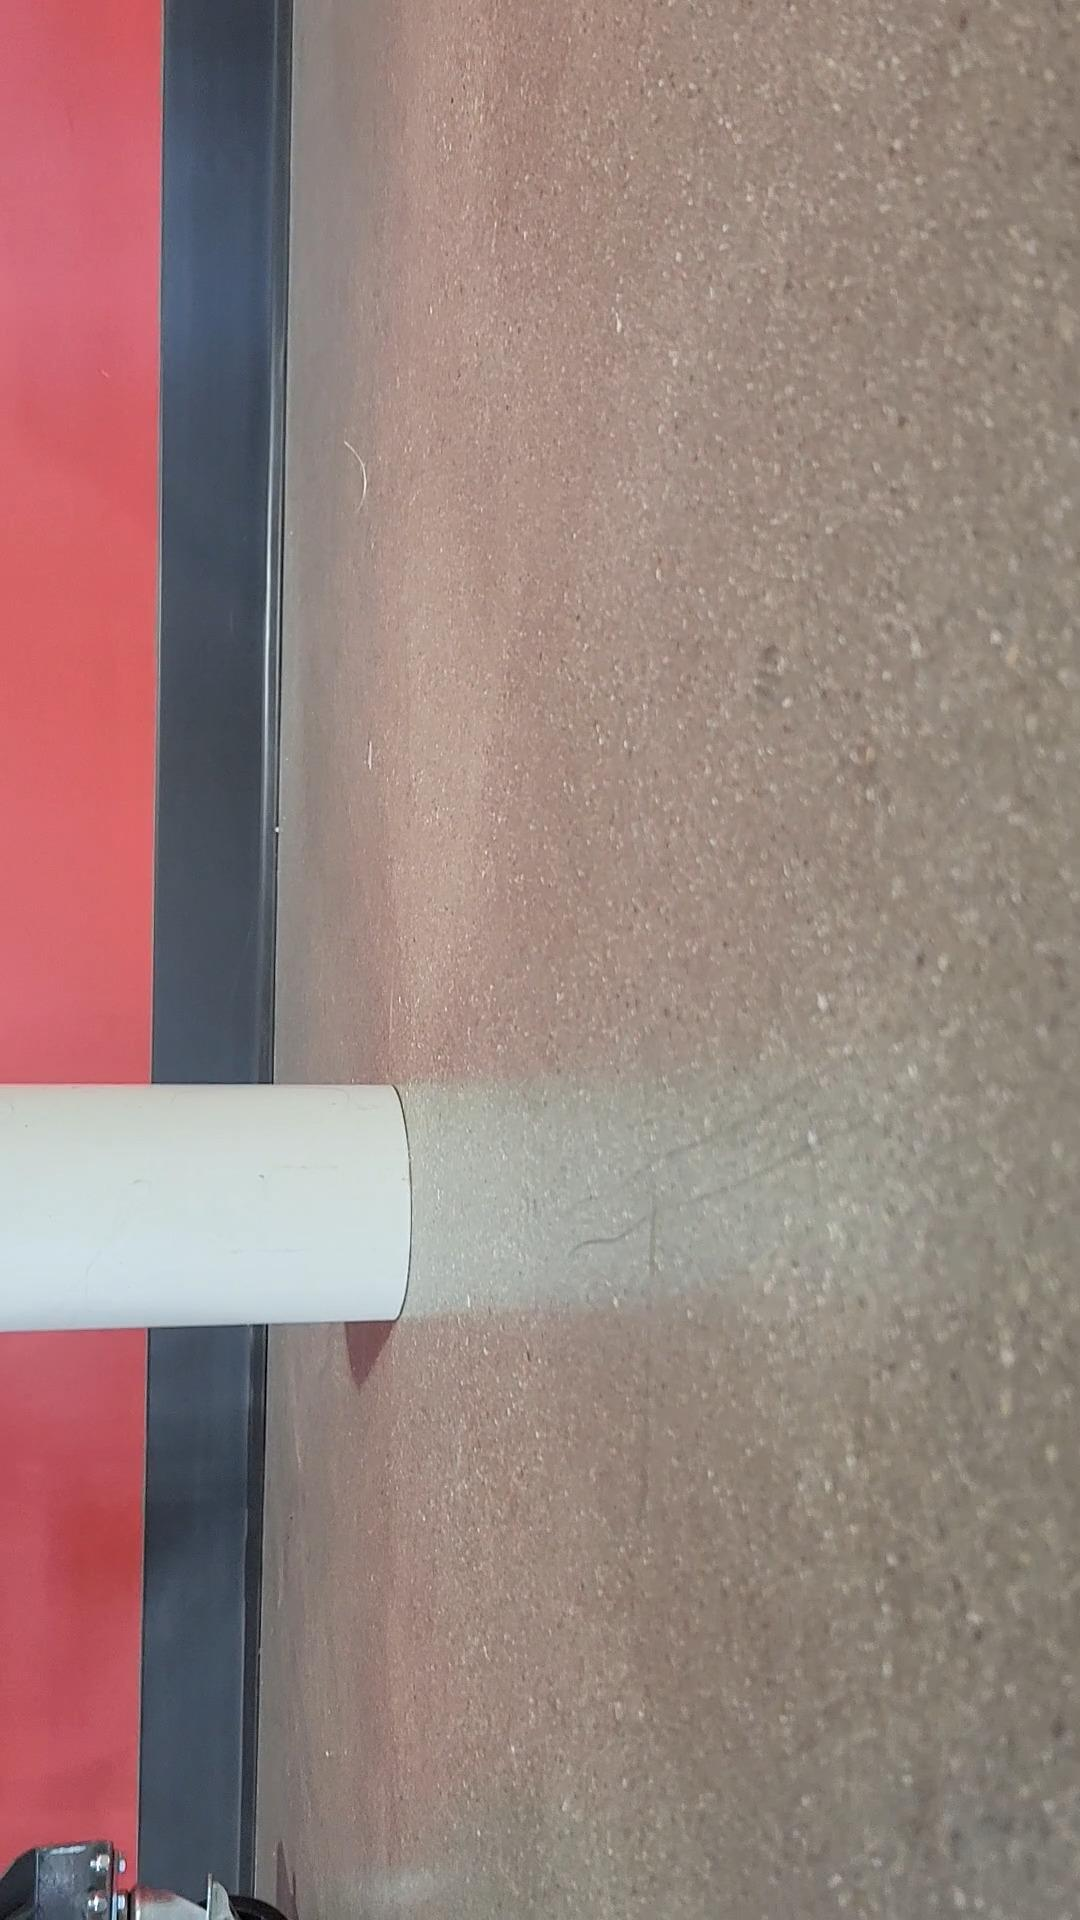coral: (0, 1064, 419, 1346)
